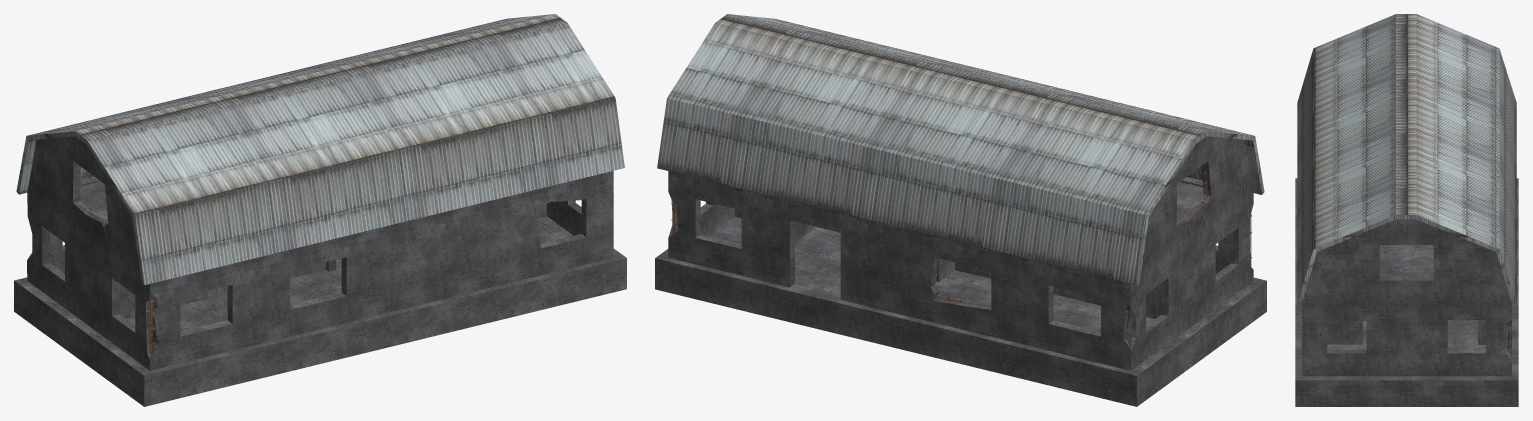
The model's file is house_2.fbx.
The picture shows the model from 3 angles, left to right: view 1: azimuth 30°, elevation 25°; view 2: azimuth 150°, elevation 25°; view 3: azimuth 270°, elevation 25°; orthographic projection. The views are drawn at different scales.
Visible parts, largest first — view 1: metal, stone; view 2: metal, stone; view 3: metal, stone.
Boxes of the visible parts, x1=… form: metal: x1=16, y1=14, x2=624, y2=285; stone: x1=14, y1=136, x2=626, y2=406; metal: x1=657, y1=14, x2=1264, y2=285; stone: x1=655, y1=136, x2=1266, y2=406; metal: x1=1297, y1=14, x2=1516, y2=304; stone: x1=1295, y1=178, x2=1518, y2=406.
Size of the model in its own units: 1783 by 789 by 833.
3 materials, 3 textured.
